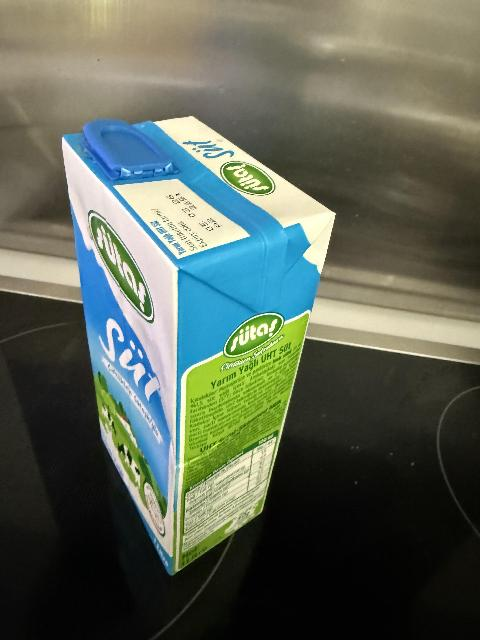Kagit: (57, 114, 313, 571)
Plastik: (87, 122, 160, 176)
